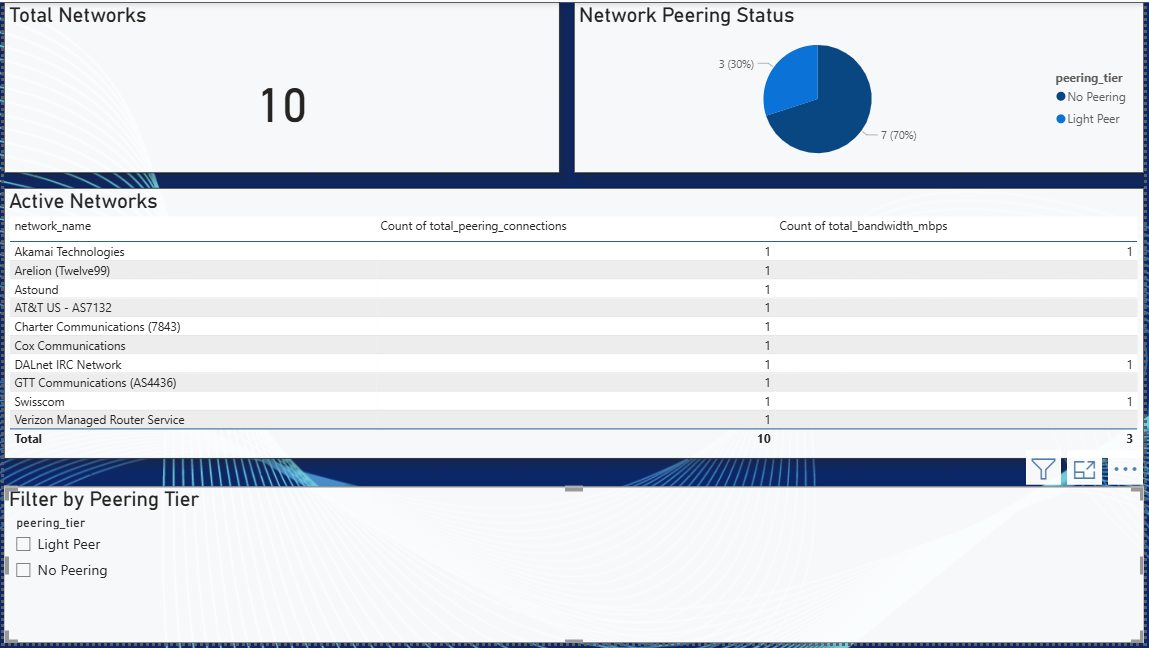

The page's visual inventory and layout, read from the dashboard file:
{"tool":"powerbi","page":{"name":"Network Peering Overview Dashboard","canvas":[1280,720],"ordinal":0},"visuals":[{"type":"card","title":"Total Networks","fields":{"Values":["CountNonNull(analytics mart_network_peering_summary.network_name)"]},"box":[0,0,624,192],"z":0},{"type":"pieChart","title":"Network Peering Status","fields":{"Category":["analytics mart_network_peering_summary.peering_tier"],"Y":["CountNonNull(analytics mart_network_peering_summary.network_name)"]},"box":[640,0,640,192],"z":1000},{"type":"tableEx","title":"Active Networks","fields":{"Values":["analytics mart_network_peering_summary.network_name","CountNonNull(analytics mart_network_peering_summary.total_peering_connections)","CountNonNull(analytics mart_network_peering_summary.total_bandwidth_mbps)"]},"box":[0,208,1280,304],"z":2000},{"type":"slicer","title":"Filter by Peering Tier","fields":{"Values":["analytics mart_network_peering_summary.peering_tier"]},"box":[0,544,1280,176],"z":3000}]}

Visuals, with their boxes in screenshot pixels (x1, y1, x2, y2), scaled from the page's 1280x720 canvas onto the 1149x648 screenshot:
"Total Networks" card: BBox(0, 0, 560, 173)
"Network Peering Status" pieChart: BBox(574, 0, 1148, 173)
"Active Networks" tableEx: BBox(0, 187, 1148, 461)
"Filter by Peering Tier" slicer: BBox(0, 490, 1148, 647)
